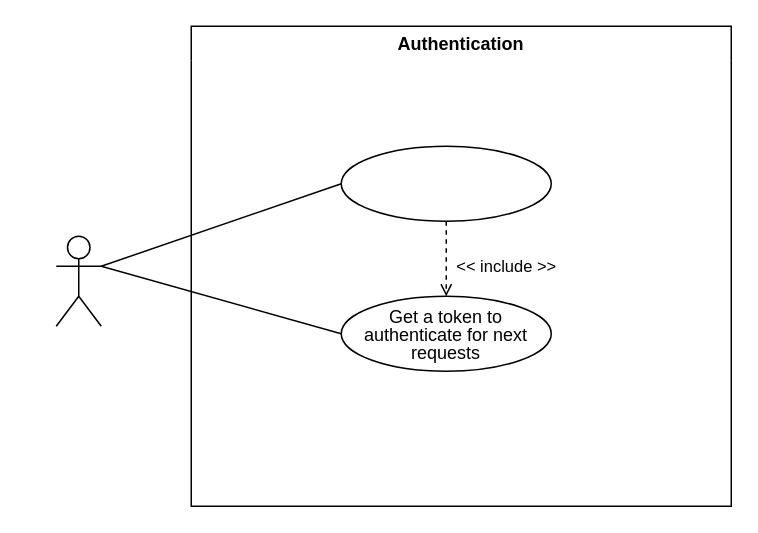
Image size: 758x533. Some labels were removed from this diagram. Here are the shapes that lost their labels. From the top down, the centre of each, then its label:
the point at 445,183: Seize identifier
the point at 78,280: Client BileMo
